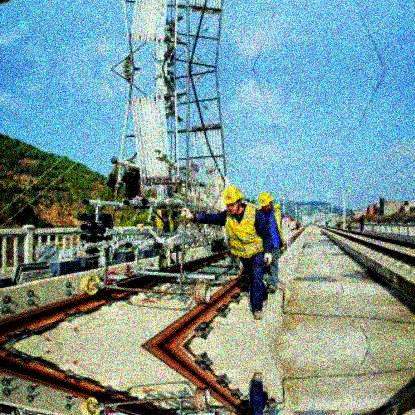helmet: (222, 186, 242, 214), (257, 192, 273, 212)
